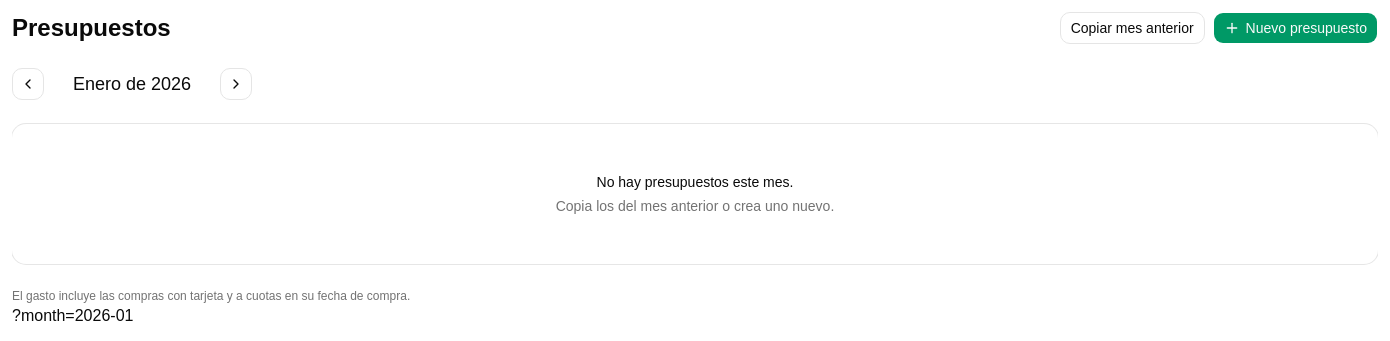
Test: BudgetsPage › moves between months through the URL, across the year boundary
expect the text "No hay presupuestos este mes." is shown: met, box left=596, top=174, right=793, bottom=190
What coordinates should you click on to do the following:
click the button named "Mes anterior"
I would click on:
 (28, 84)
Its box is left=12, top=68, right=44, bottom=100.
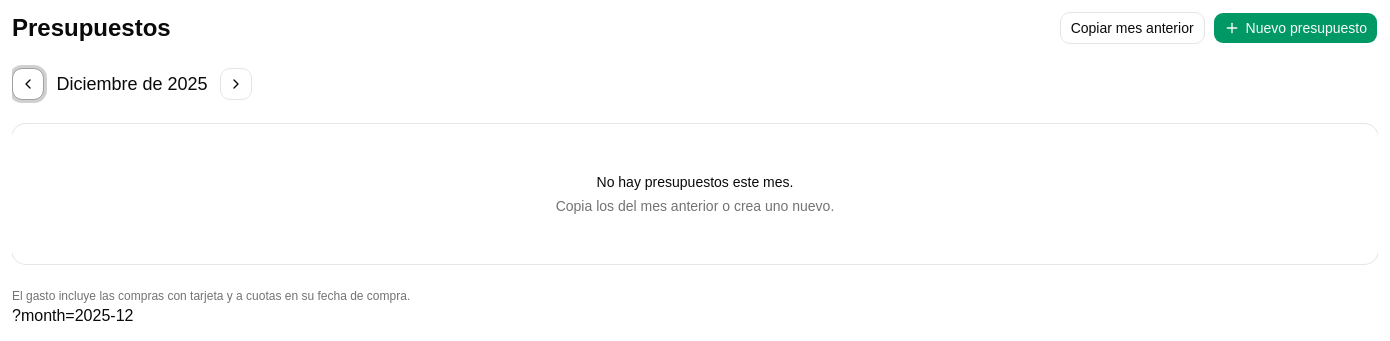
expect the text with test id "where" shows "month=2025-12": met, box left=12, top=307, right=133, bottom=324
